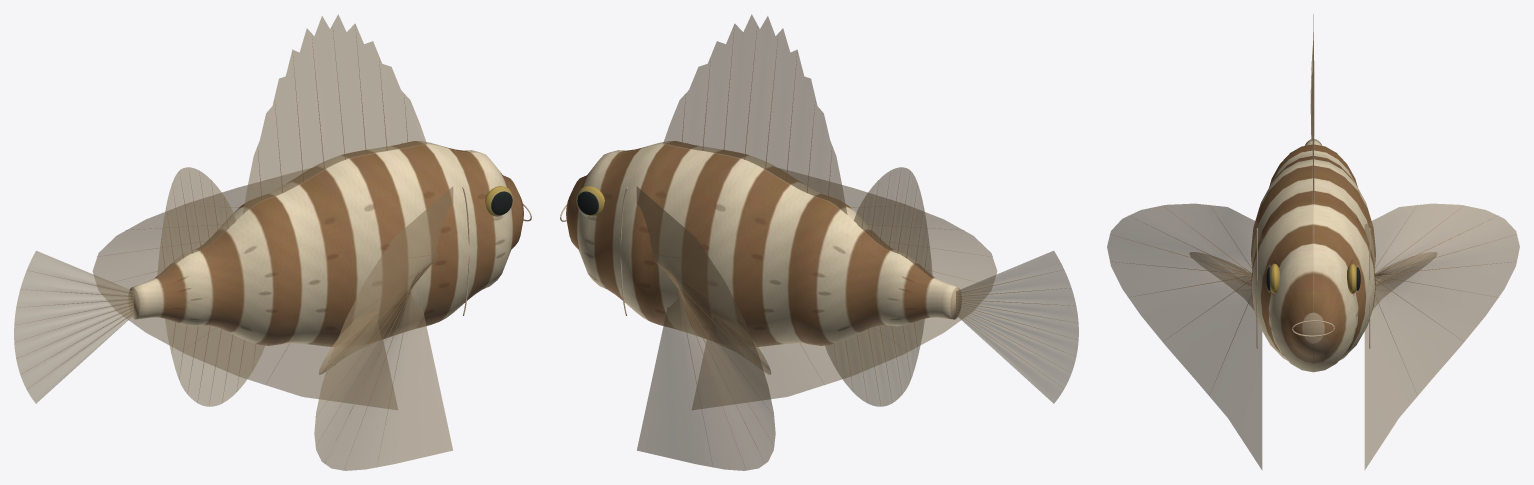
The model's file is lion-mobile.glb.
3 renders of one model, left to right at view 1: azimuth 30°, elevation 25°; view 2: azimuth 150°, elevation 25°; view 3: azimuth 270°, elevation 25°, orthographic. The views are drawn at different scales.
Visible parts, largest first — view 1: skin, pectoral-left, dorsal, tail, anal, dorsal-ray, pelvic-left; view 2: skin, pectoral-left, dorsal, tail, anal, dorsal-ray, pelvic-left; view 3: pectoral-left, skin, pelvic-left, dorsal-ray, operculum, eye-iris--1.
Part boxes in pixels (x1=…): skin: x1=128, y1=141, x2=523, y2=346; pectoral-left: x1=92, y1=168, x2=453, y2=470; dorsal: x1=157, y1=14, x2=426, y2=278; tail: x1=14, y1=251, x2=133, y2=403; anal: x1=165, y1=319, x2=264, y2=406; dorsal-ray: x1=17, y1=25, x2=436, y2=462; pelvic-left: x1=318, y1=307, x2=380, y2=374; skin: x1=566, y1=141, x2=961, y2=346; pectoral-left: x1=636, y1=168, x2=997, y2=470; dorsal: x1=663, y1=14, x2=932, y2=278; tail: x1=956, y1=251, x2=1078, y2=403; anal: x1=825, y1=319, x2=924, y2=406; dorsal-ray: x1=653, y1=25, x2=1077, y2=454; pelvic-left: x1=709, y1=307, x2=771, y2=374; pectoral-left: x1=1107, y1=203, x2=1519, y2=469; skin: x1=1251, y1=139, x2=1375, y2=372; pelvic-left: x1=1189, y1=252, x2=1437, y2=308; dorsal-ray: x1=1112, y1=65, x2=1514, y2=338; operculum: x1=1256, y1=228, x2=1370, y2=348; eye-iris--1: x1=1270, y1=263, x2=1356, y2=293.
Size of the model in its own units: 0.6032 by 0.4993 by 0.4559.
Materials: 11 (1 with a texture image).
